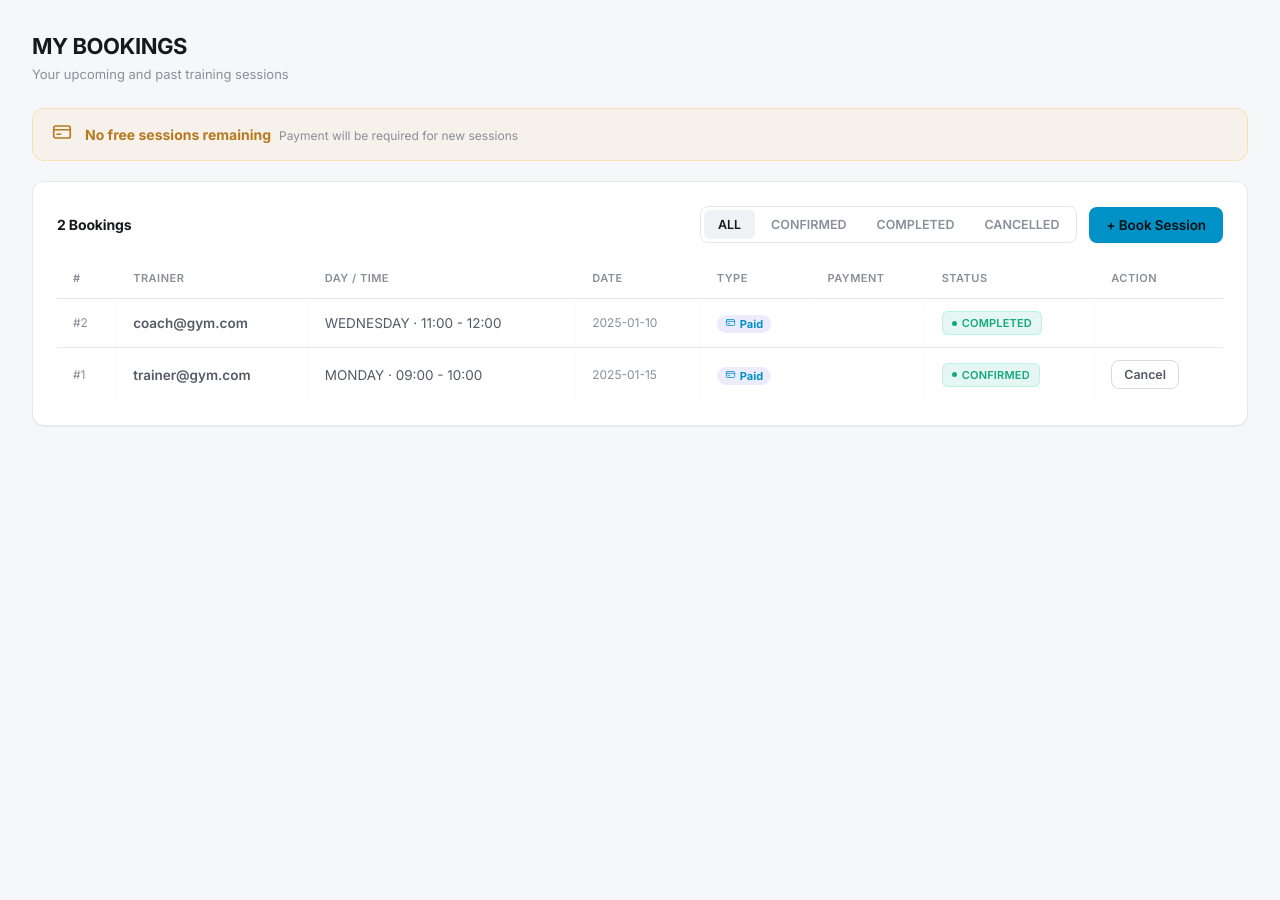
Test: MemberBookings — payment method dropdown › shows Payment Method dropdown with Cash and Online options
Step 1. Click the button "+ Book Session" → (1156, 225), box [1089,206,1223,243]
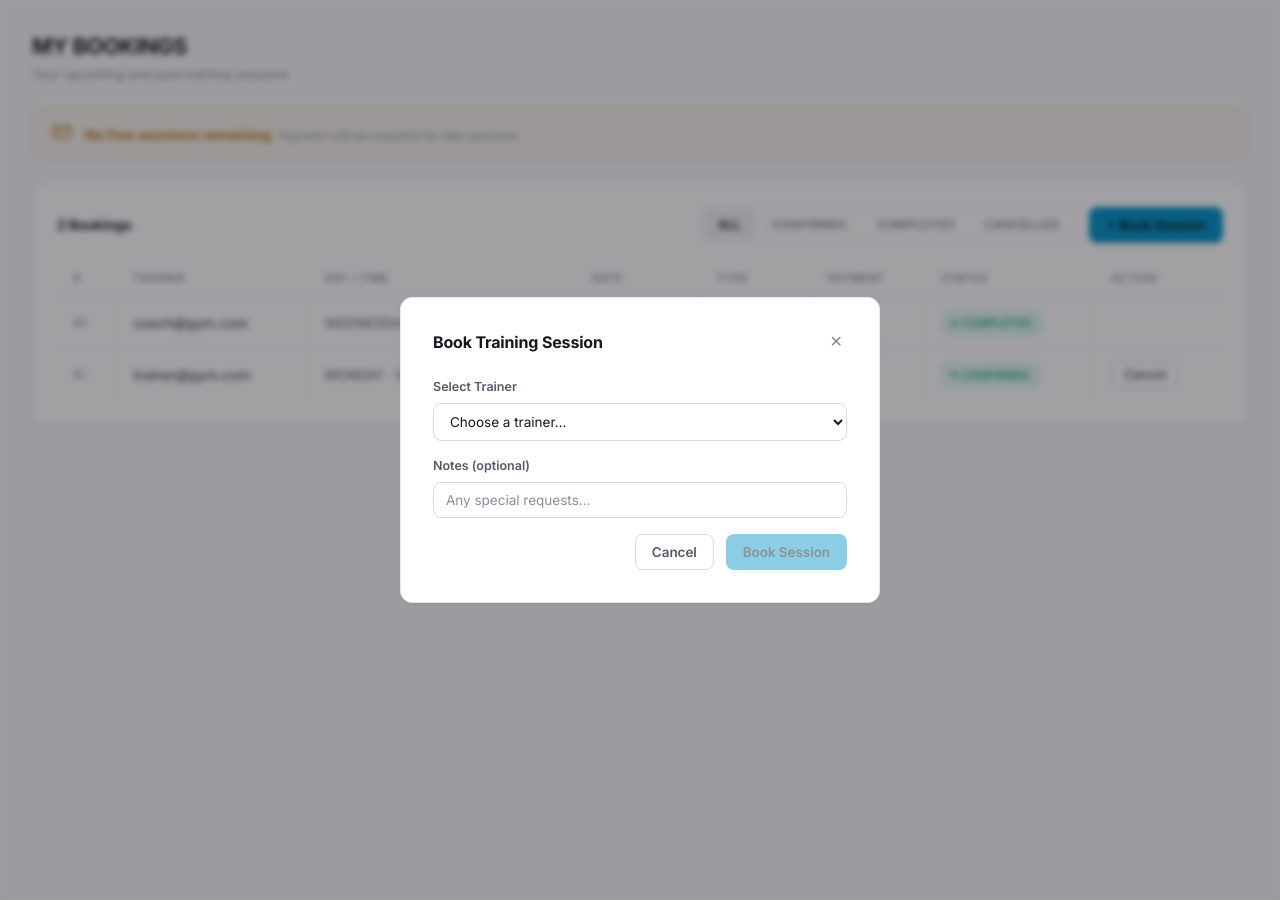
Check: the text "Book Training Session" is shown, box [433,330,603,354]
Step 2. Select "John Trainer — Yoga — fee not set" in the dropdown → (640, 422), box [433,403,847,441]
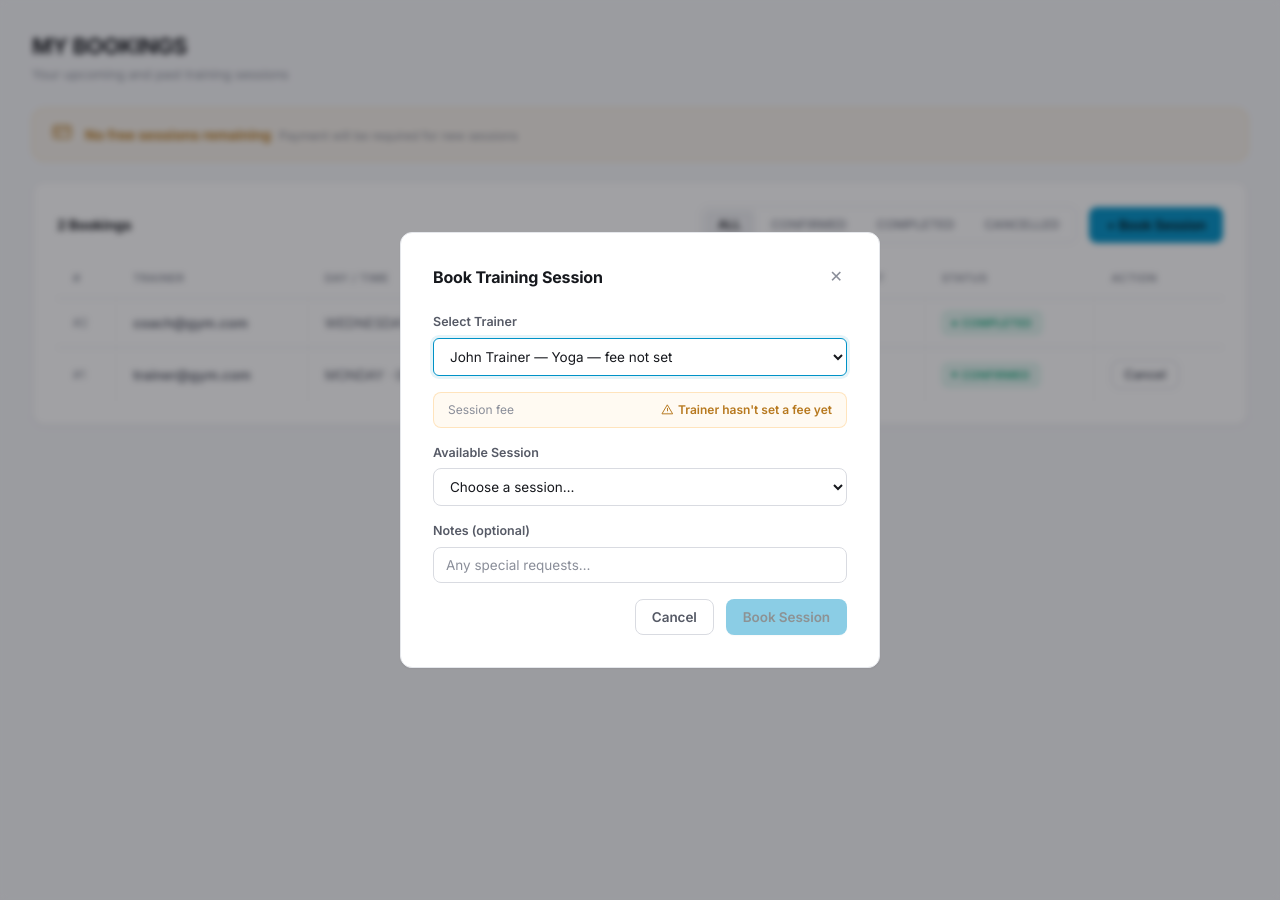
Check: the text "Available Session" is shown, box [433,444,539,460]
Step 3. Select "05 Jan: 09:00 – 10:00 (0/5)" in the dropdown below "Available Session" → (640, 487), box [433,468,847,506]
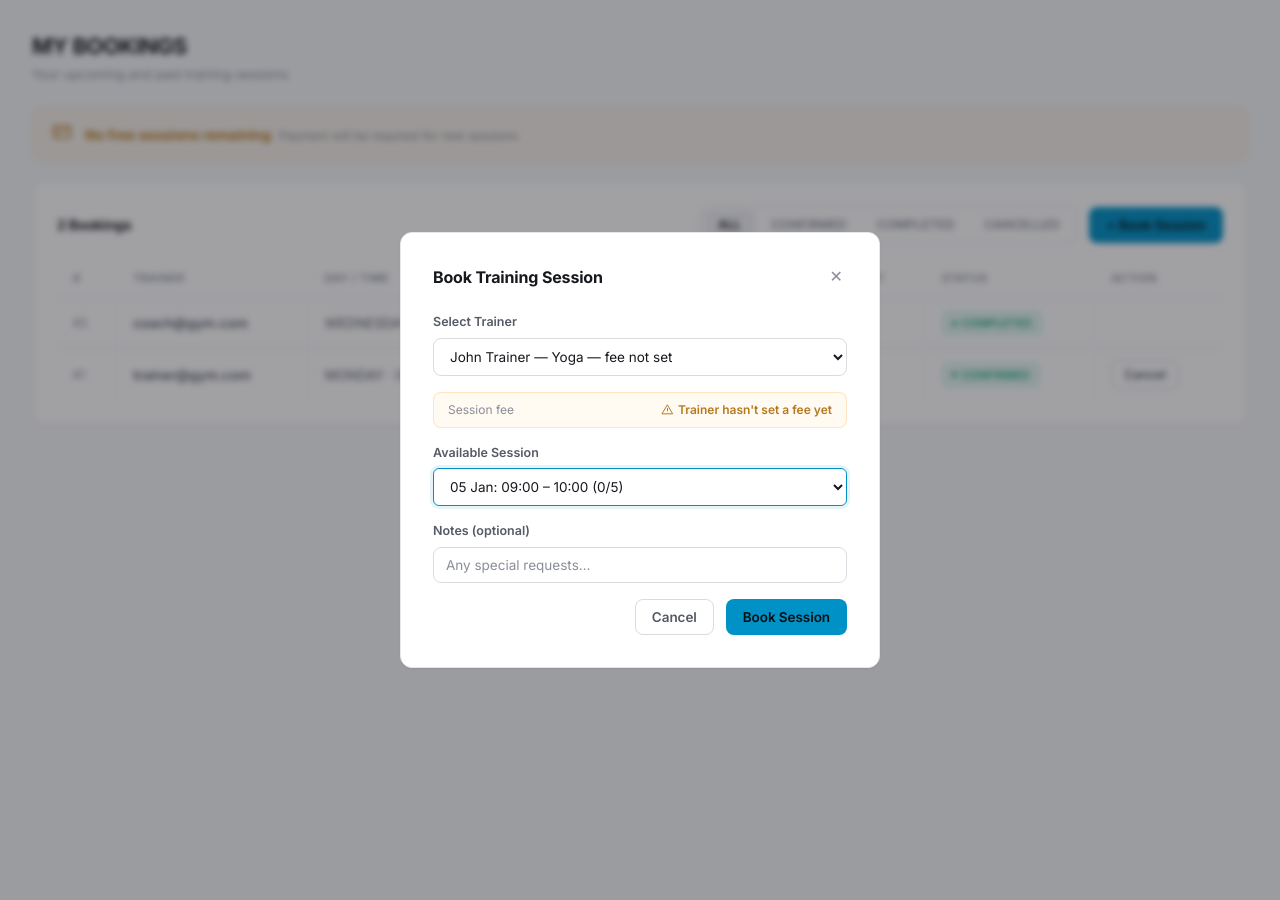
Step 4. Click the button "Book Session" → (786, 617), box [726,599,847,635]
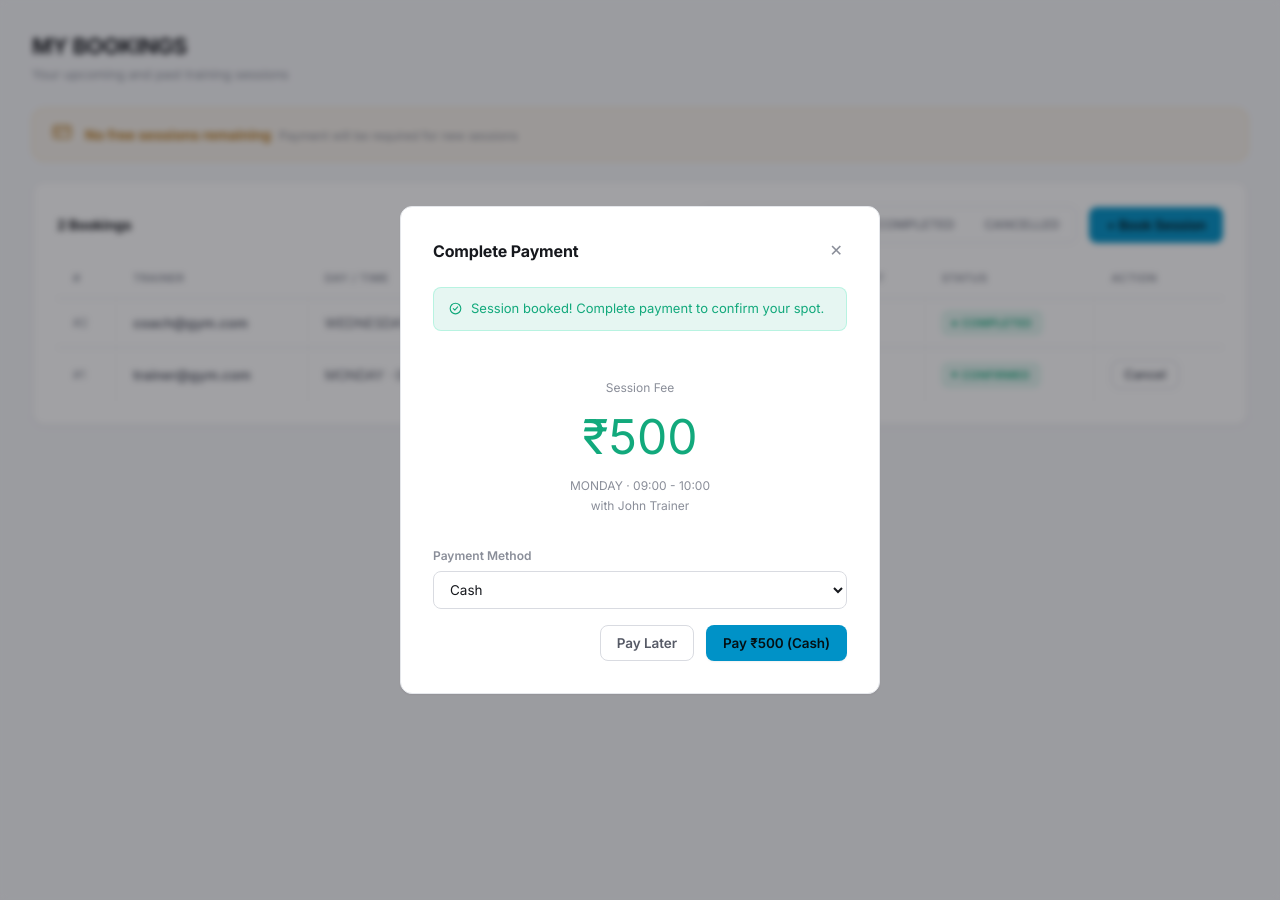
Check: the text "Payment Method" is shown, box [433,548,532,563]
